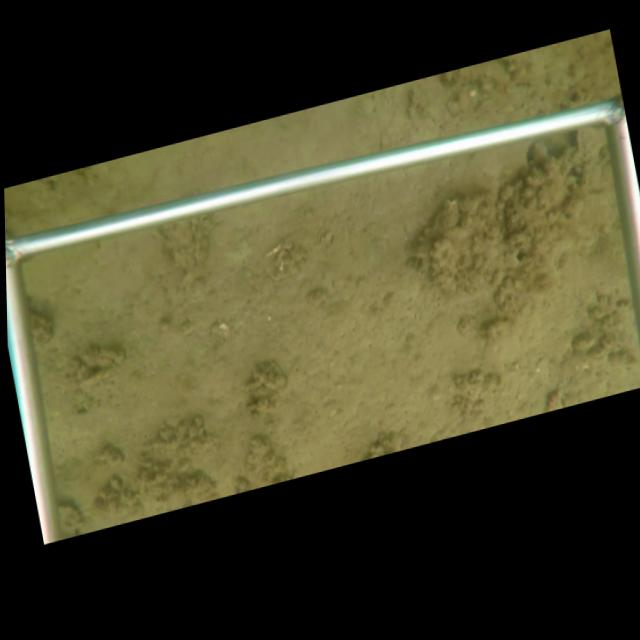Oyster-Closed: (573, 127, 611, 160)
Oyster-Indeterminate: (495, 151, 584, 265)
